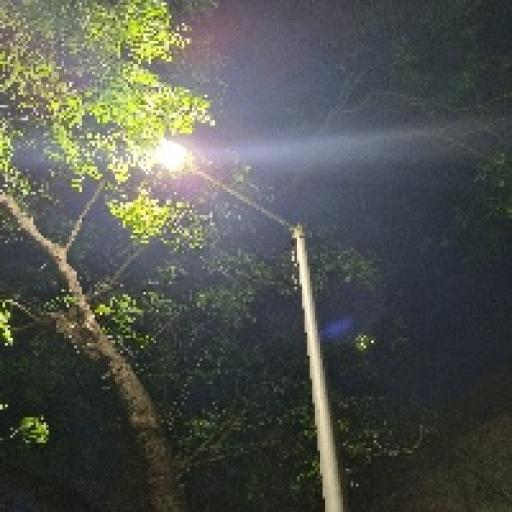Working: (144, 127, 202, 189)
